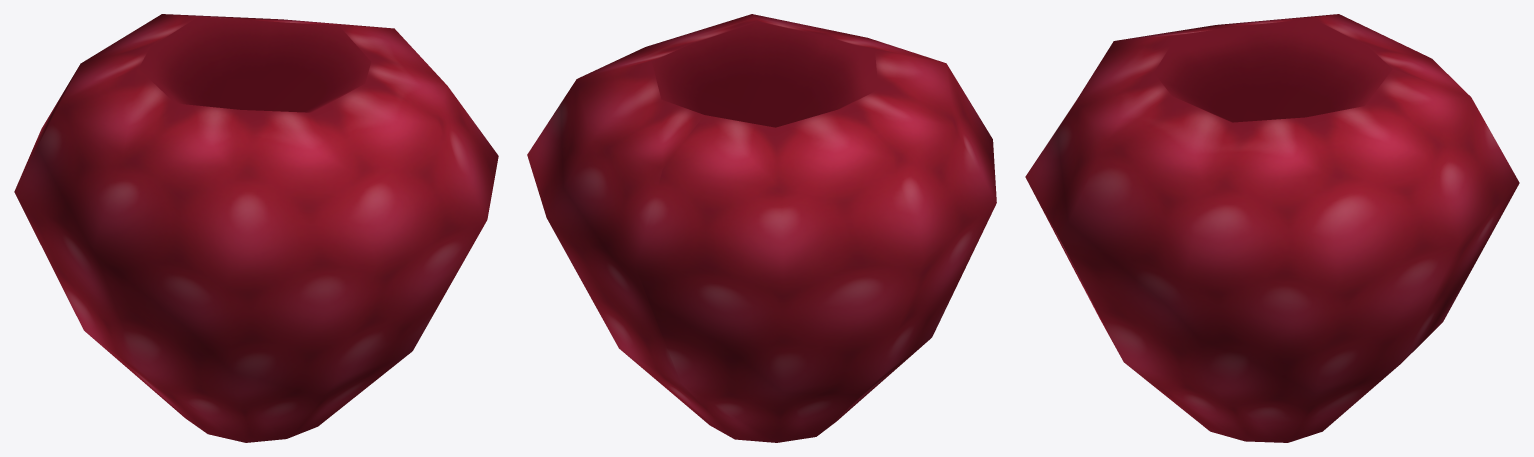
The model's file is Raspberry_Red.fbx.
3 views of the same model, side by side, from view 1: azimuth 30°, elevation 25°; view 2: azimuth 150°, elevation 25°; view 3: azimuth 270°, elevation 25° (orthographic).
Parts seen in each view (by area): view 1: Raspberry_Red; view 2: Raspberry_Red; view 3: Raspberry_Red.
Boxes of the visible parts, x1,y1,x2,y2 form: Raspberry_Red: (14,14,498,442); Raspberry_Red: (527,14,996,442); Raspberry_Red: (1025,14,1519,442).
Size of the model in its own units: 14.73 by 12.78 by 15.37.
